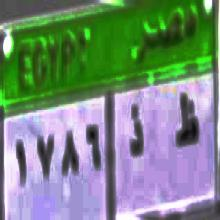1: (14, 132, 30, 192)
6: (86, 122, 102, 182)
7: (36, 131, 54, 190)
8: (59, 126, 78, 185)
Thaa: (176, 90, 202, 156)
zaal: (128, 107, 146, 167)
